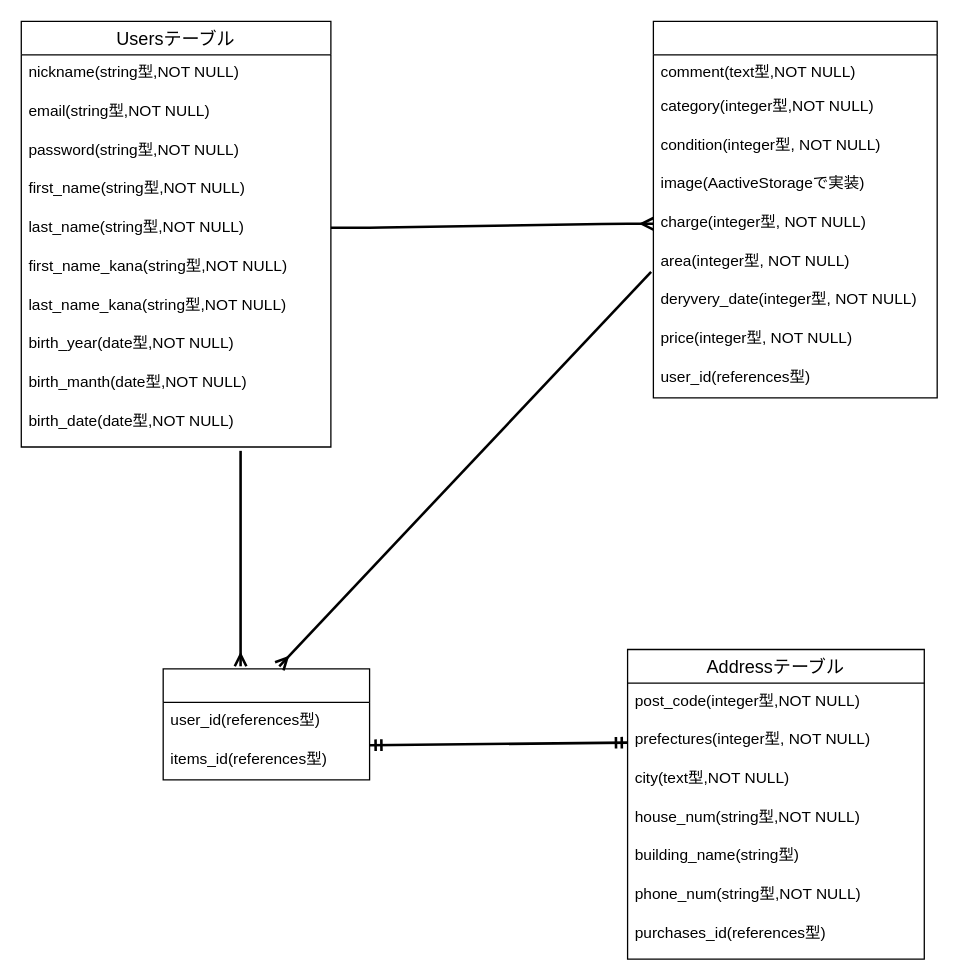
Some shapes in this 958 by 980 pixel diagram are drawn without their labels. Each missing label, with the box of its shape:
Itemsテーブル: (652, 20, 937, 398)
Purchasesテーブル: (162, 668, 370, 780)
